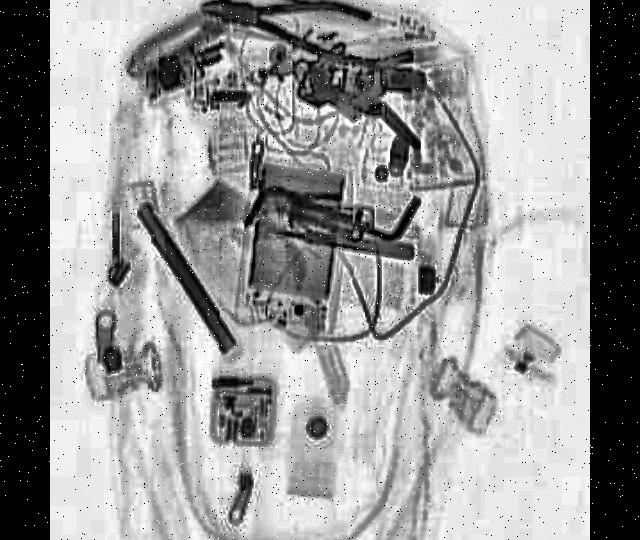Pliers: (200, 0, 420, 79)
